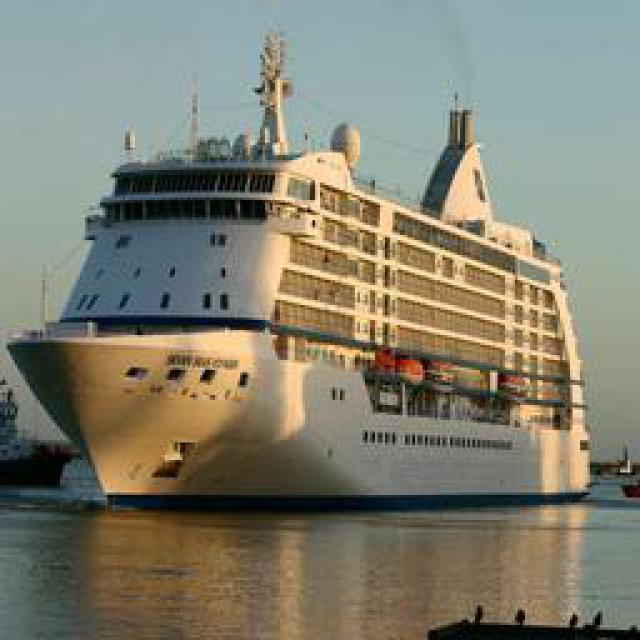Ship: (19, 26, 602, 509)
